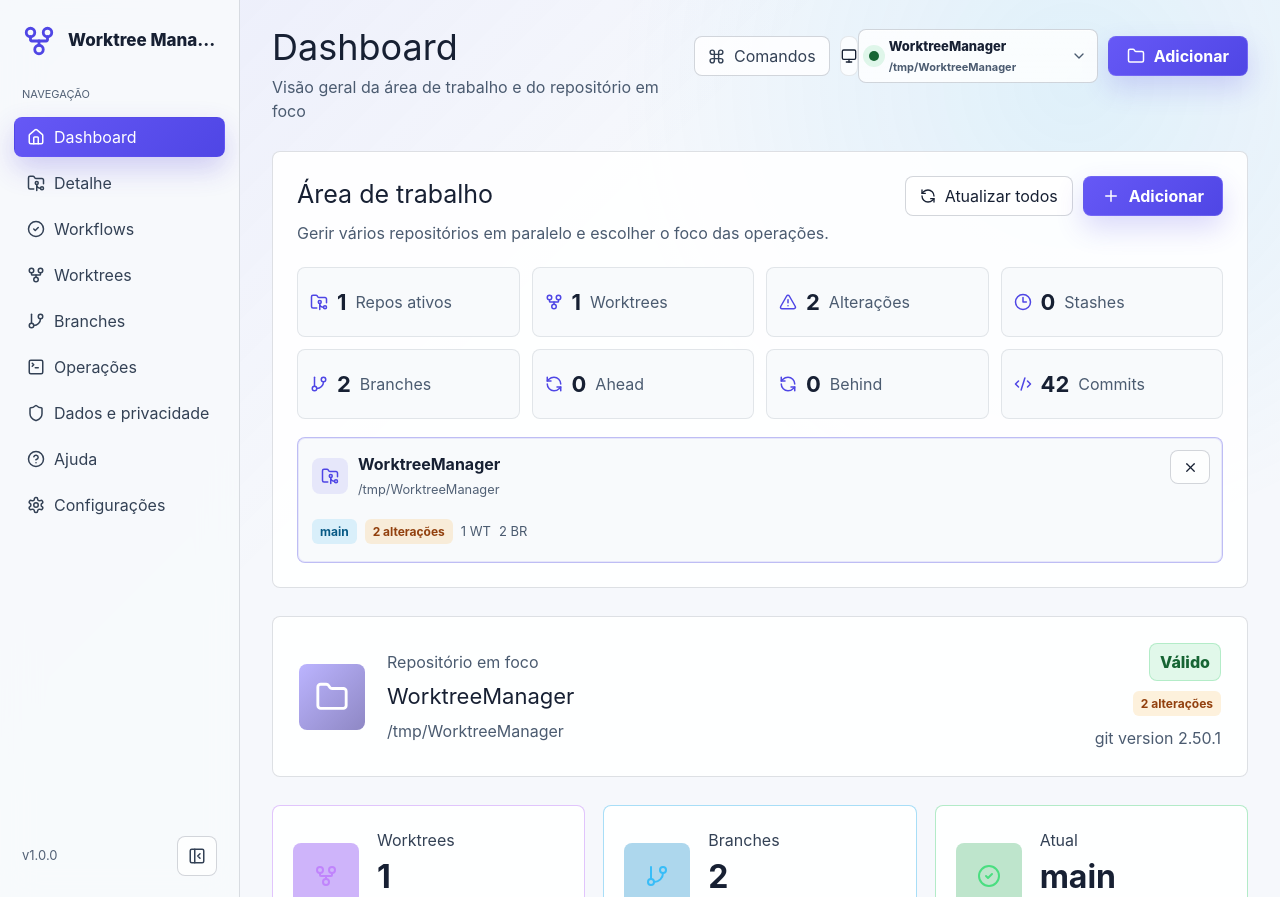
Test: App › renders the review page with filters and split diff
The image size is (1280, 897).
expect the text "Repos ativos" is shown: met, box [356, 292, 452, 312]
Step 1. Click the button "Worktrees" → x=120, y=274, box [14, 254, 225, 294]
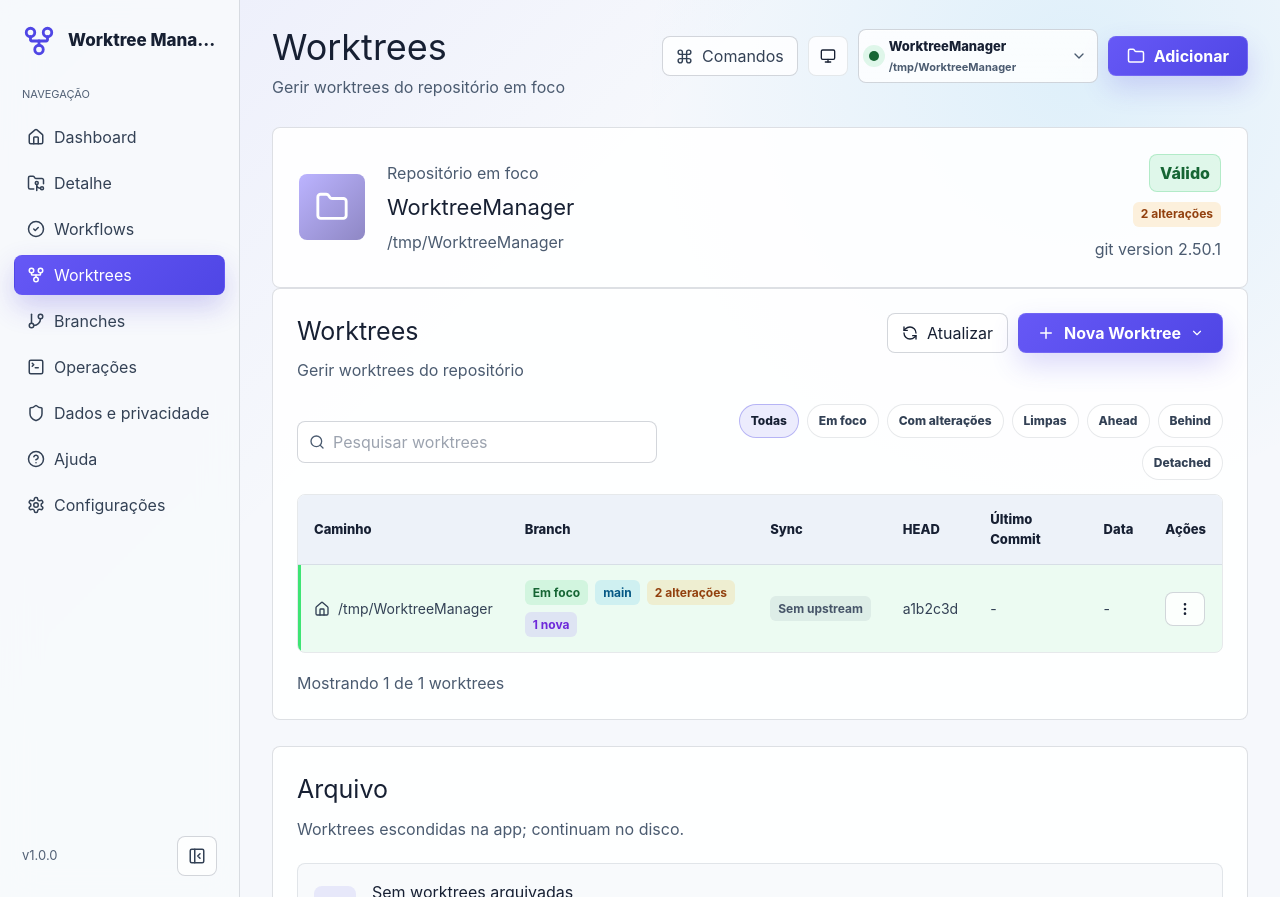
Step 2. Click the button titled "Ações" → x=1185, y=609, box [1165, 592, 1205, 626]
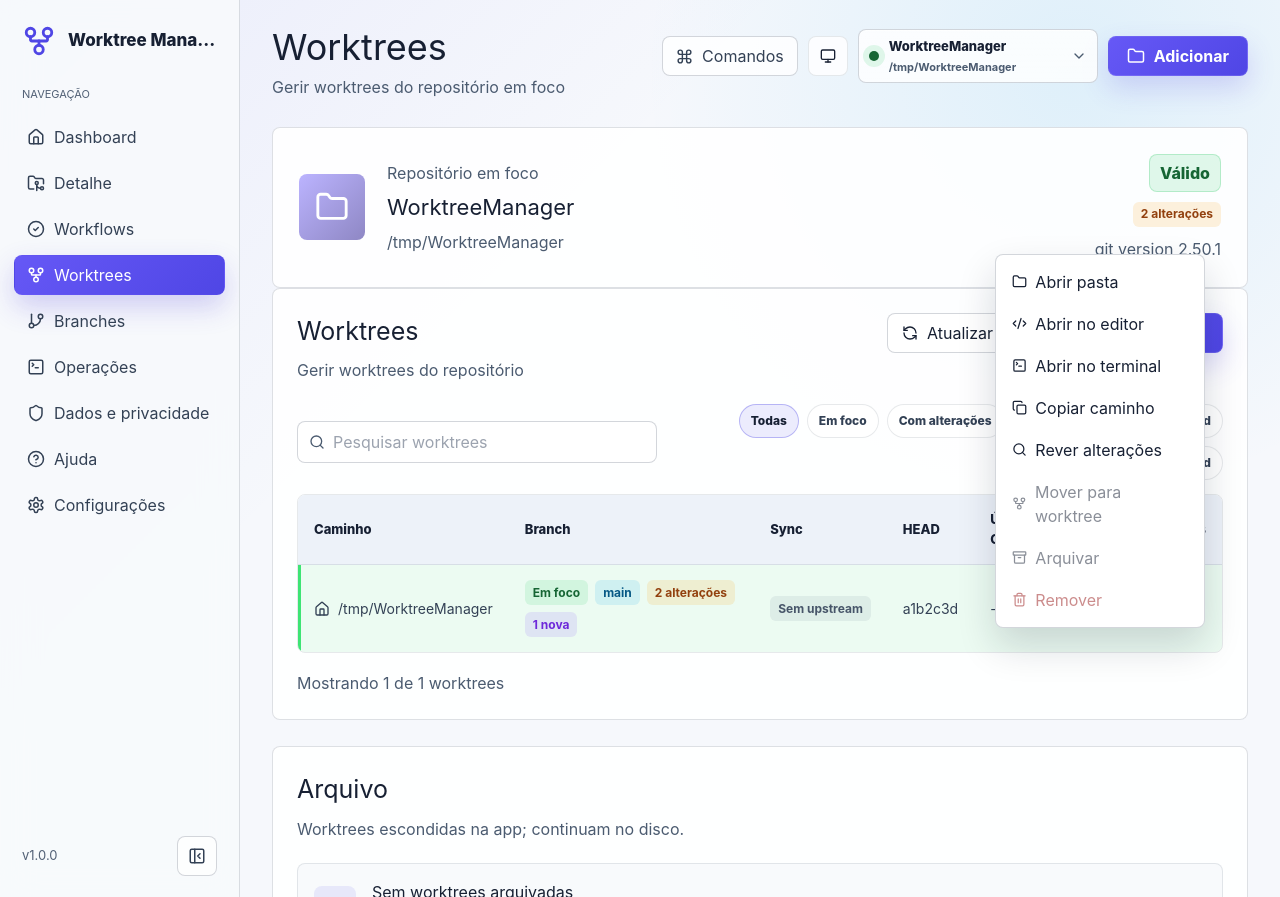
Step 3. Click the menu item "Rever alterações" → x=1100, y=450, box [1002, 429, 1198, 471]
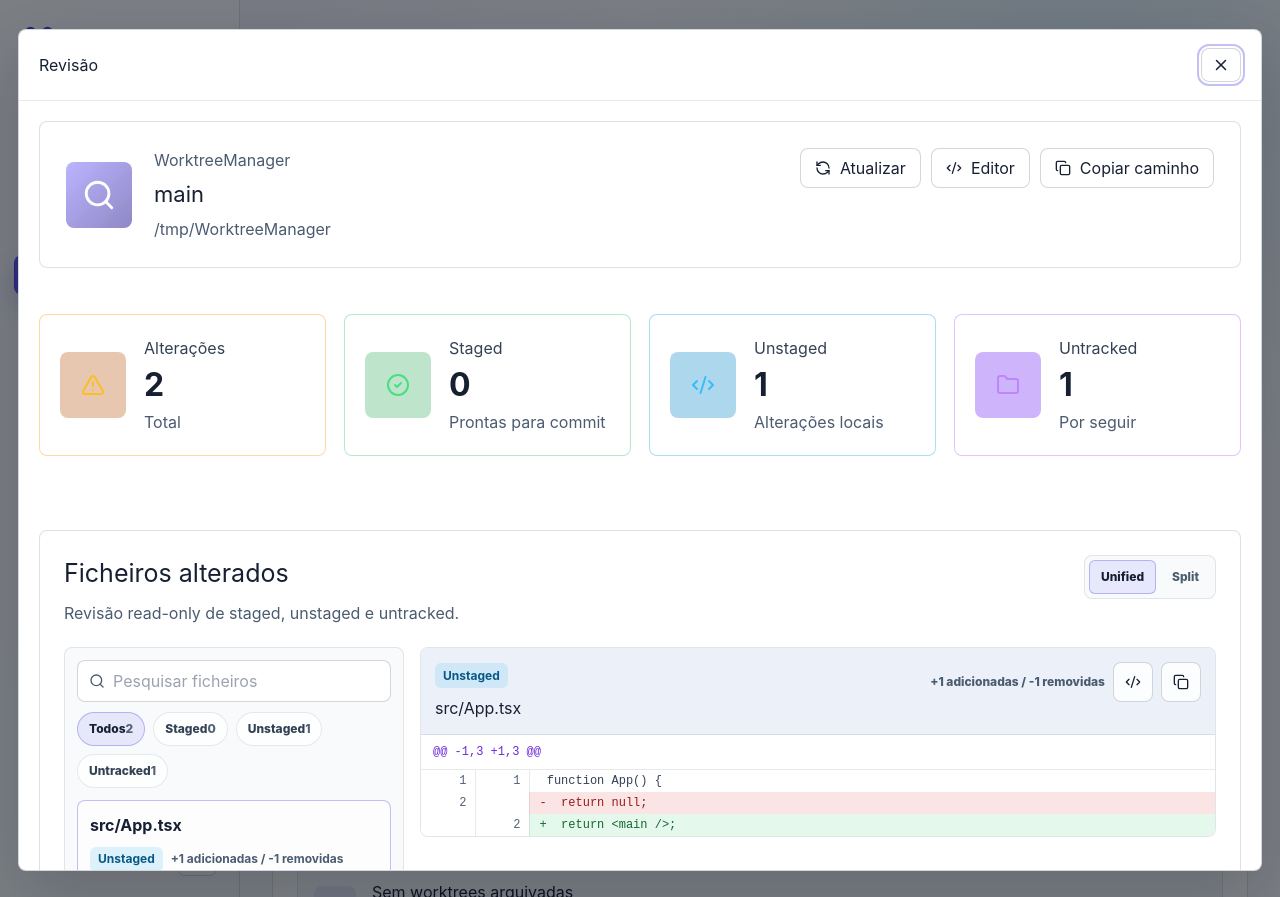
expect the dialog "Revisão" is shown: met
Step 4. Click the button "Untracked1" → x=122, y=770, box [77, 754, 168, 788]
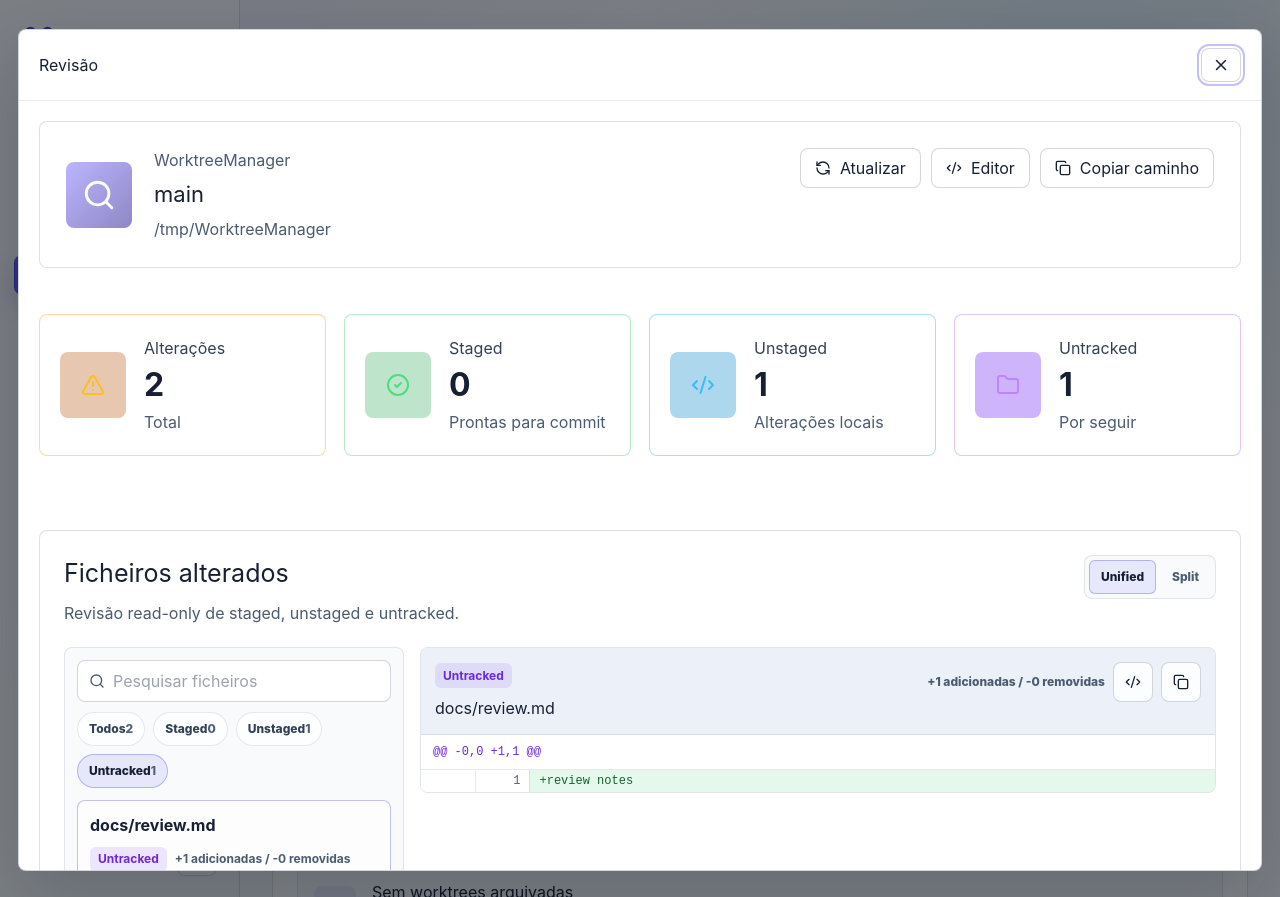
expect no buttons "src/App.tsx" are shown: met
Step 5. Click the button "Split" → x=1186, y=577, box [1160, 560, 1211, 594]
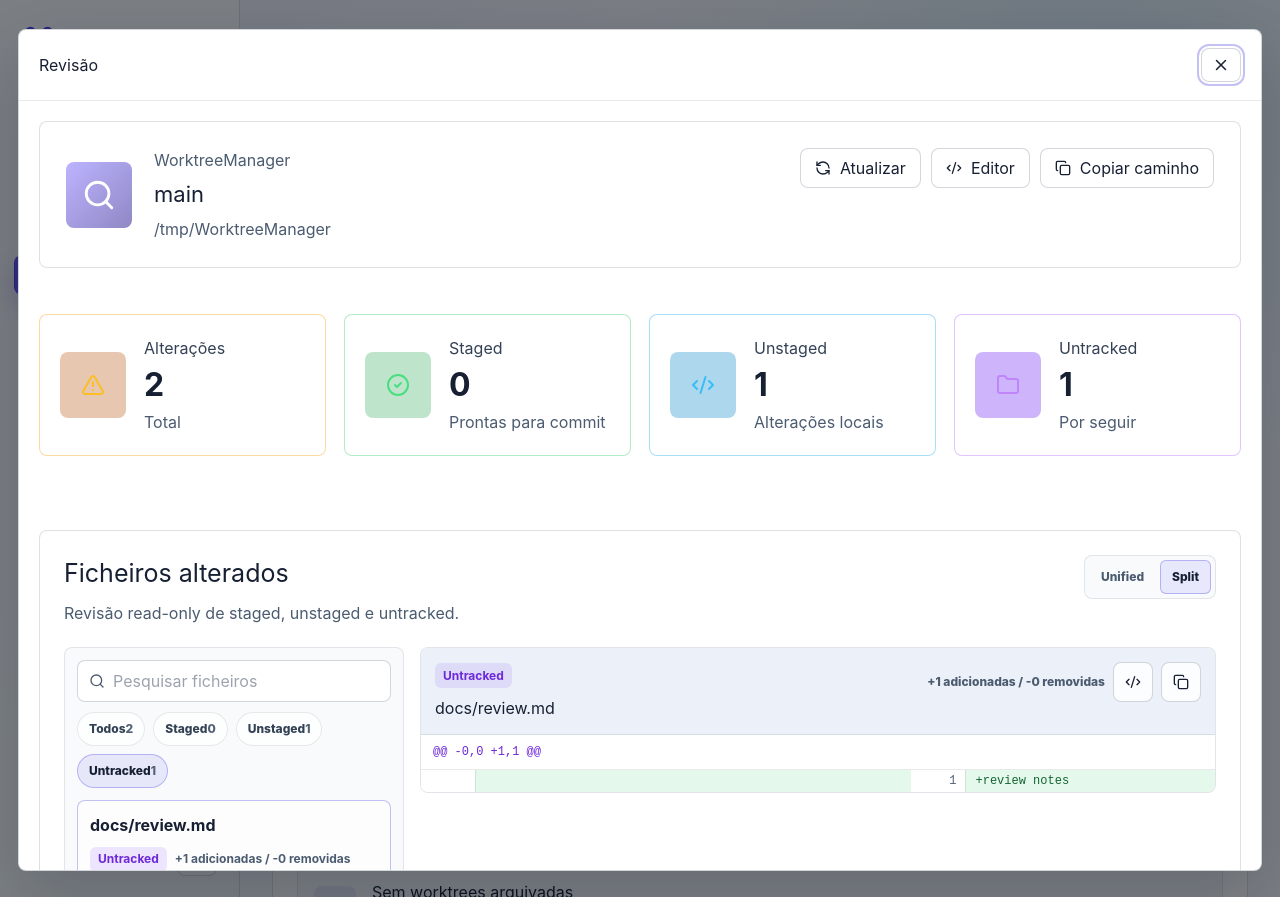
expect the element named "Split diff docs/review.md" is shown: met, box [421, 735, 1215, 792]
